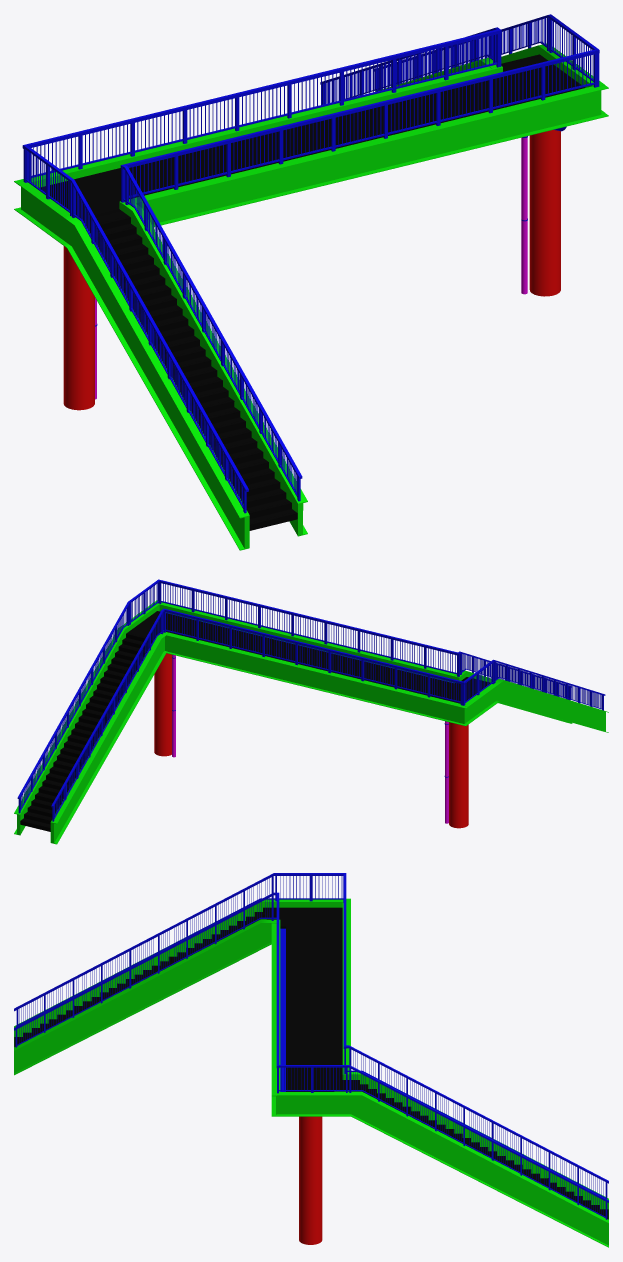
File: hodoukyou.fbx
The picture shows the model from 3 angles, top to bottom: view 1: azimuth 30°, elevation 25°; view 2: azimuth 150°, elevation 25°; view 3: azimuth 270°, elevation 25°; orthographic projection. The views are drawn at different scales.
Parts seen in each view (by area): view 1: polySurface9279; view 2: polySurface9279; view 3: polySurface9279.
Boxes of the visible parts, <box> form: polySurface9279: <box>14,14,608,550</box>; polySurface9279: <box>14,579,608,844</box>; polySurface9279: <box>14,873,608,1247</box>.
Size of the model in its own units: 105 by 46.25 by 134.
